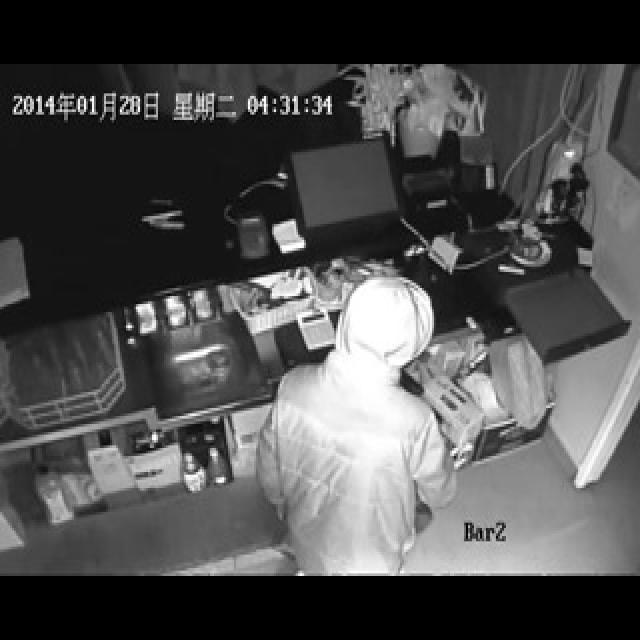thief: (329, 266, 434, 518)
